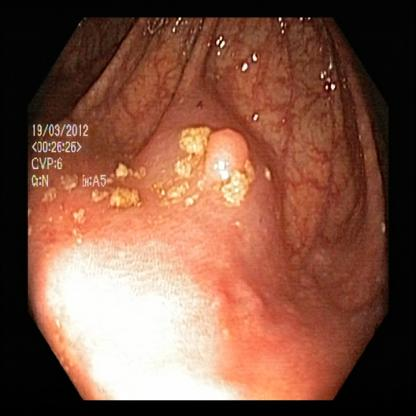Labels: (32, 117, 98, 193)
Polyps: (177, 112, 262, 206), (44, 170, 153, 238)
